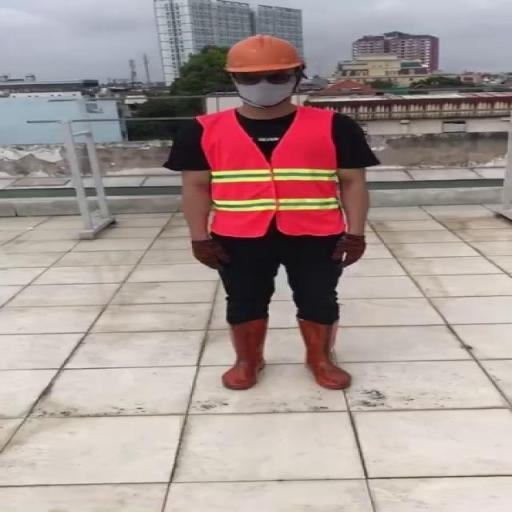Person: (174, 28, 401, 414)
boots: (295, 306, 361, 397), (214, 310, 276, 396)
gloves: (184, 232, 234, 274), (326, 231, 372, 267)
goggles: (225, 69, 314, 88)
helmet: (220, 30, 312, 76)
vest: (188, 100, 348, 238)
